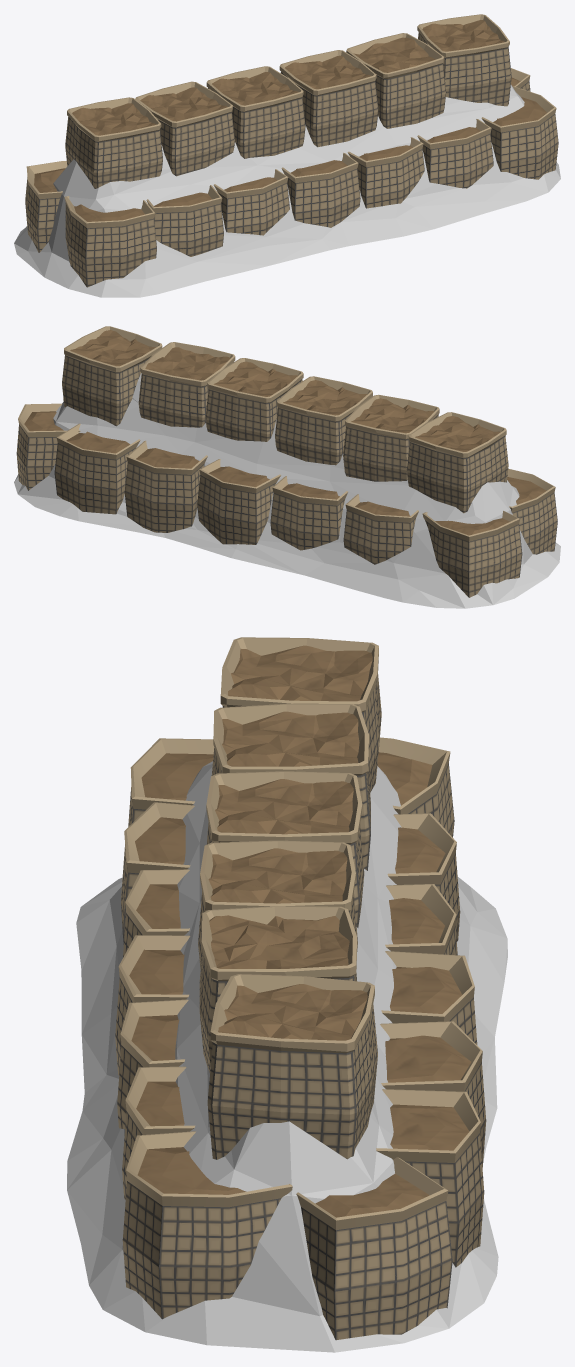
3 views of the same model, one above another, from view 1: azimuth 30°, elevation 25°; view 2: azimuth 150°, elevation 25°; view 3: azimuth 270°, elevation 25° (orthographic). The views are drawn at different scales.
Visible parts, largest first — view 1: polySurface168; view 2: polySurface168; view 3: polySurface168.
Boxes of the visible parts, box(x1,y1,x2,y2) form: polySurface168: box(14, 14, 560, 297); polySurface168: box(14, 326, 560, 608); polySurface168: box(67, 637, 507, 1352).
Size of the model in its own units: 843 by 212 by 317.
